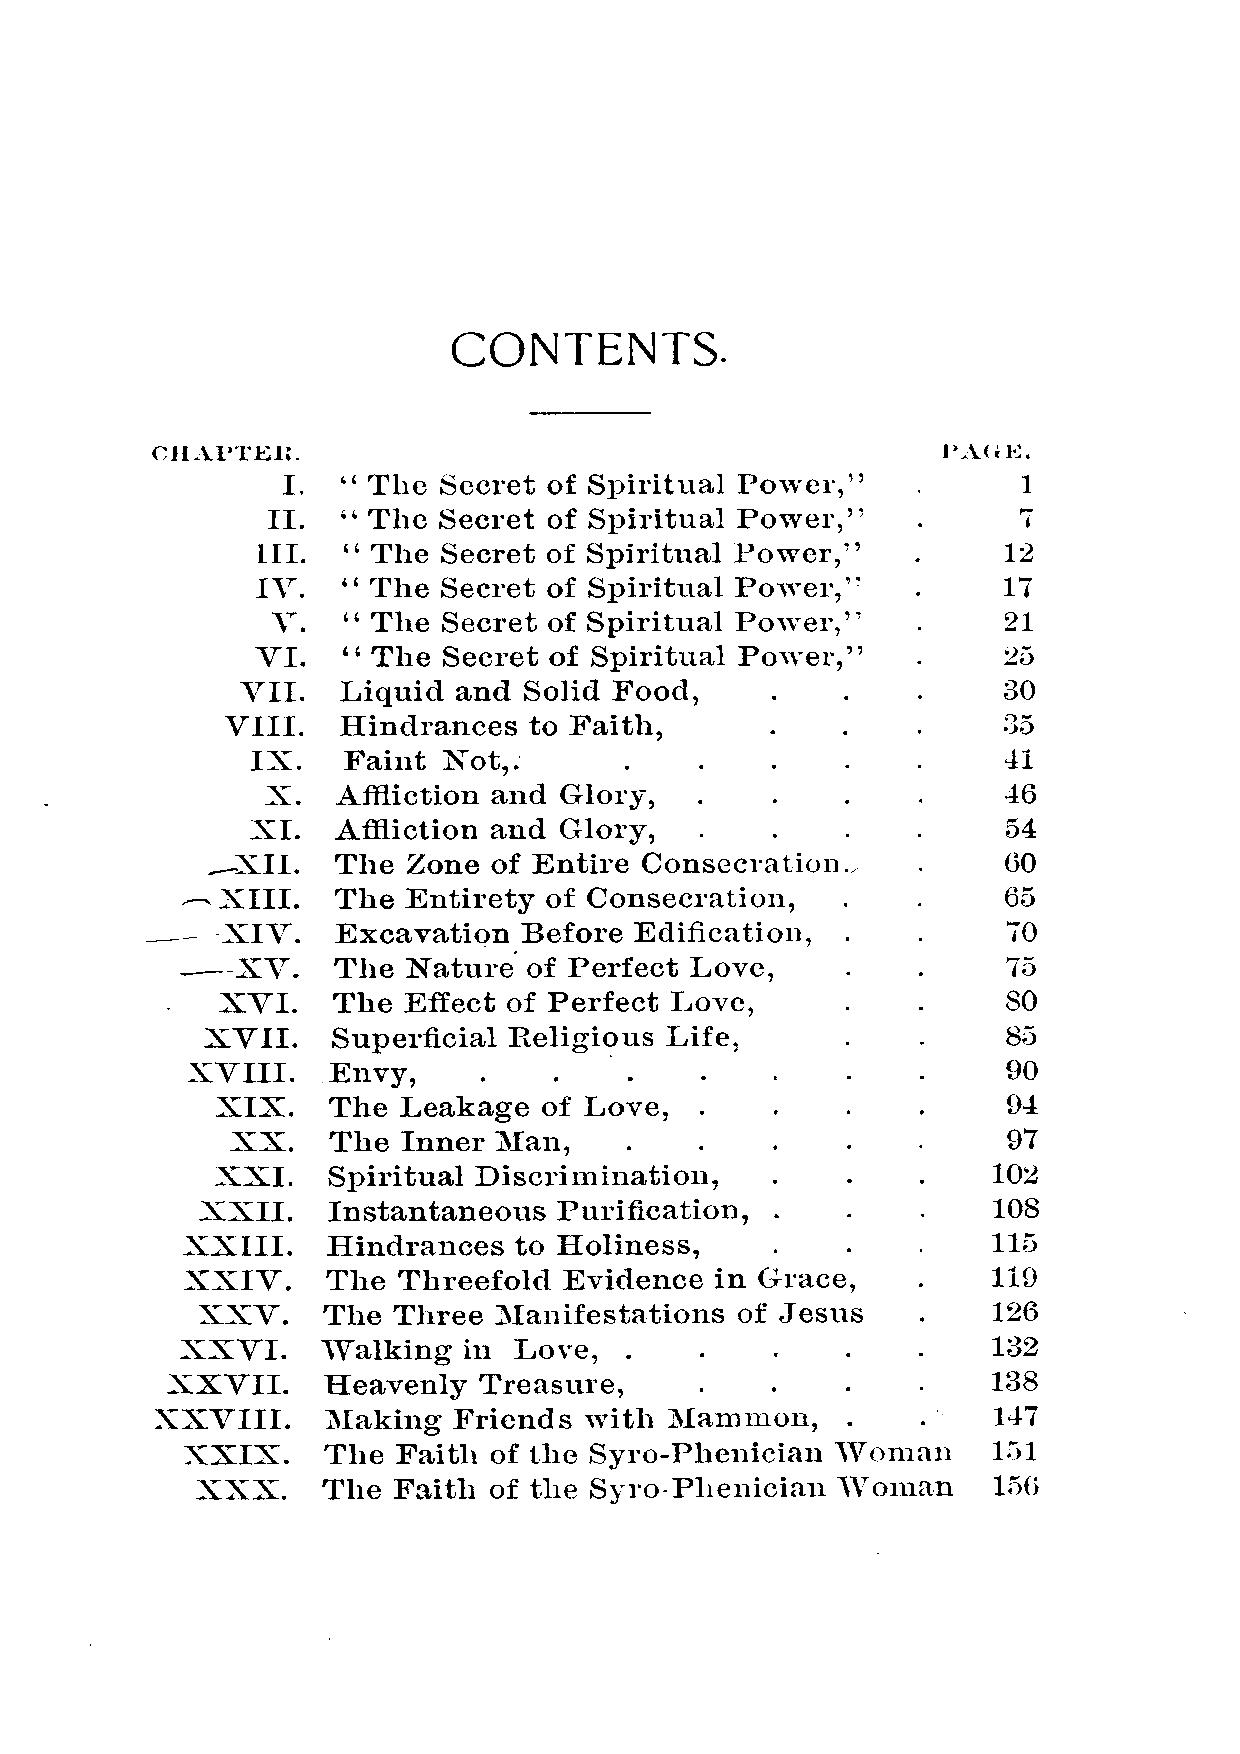TOC_chapter: (191, 1474, 960, 1500), (191, 1299, 870, 1329), (178, 1440, 955, 1465), (248, 641, 864, 672), (178, 1266, 858, 1292), (250, 539, 862, 569), (152, 1405, 821, 1432), (255, 573, 862, 601), (263, 607, 862, 635), (217, 921, 816, 949), (199, 1023, 743, 1053), (276, 470, 866, 498), (217, 884, 798, 913), (263, 505, 867, 531), (236, 953, 777, 982), (229, 849, 840, 875), (183, 1231, 707, 1260), (235, 676, 702, 709), (197, 1198, 752, 1225), (212, 989, 760, 1016), (211, 1162, 721, 1190), (212, 1094, 670, 1125), (165, 1370, 627, 1398), (247, 815, 655, 845), (221, 711, 667, 739), (172, 1334, 603, 1362), (260, 782, 658, 811), (225, 1127, 572, 1155), (244, 745, 521, 776), (185, 1057, 416, 1088)
TOC_pagenumber: (988, 1227, 1045, 1253), (986, 1263, 1044, 1290), (990, 1194, 1045, 1221), (990, 1158, 1041, 1186), (988, 1401, 1040, 1428), (990, 1296, 1041, 1323), (990, 1333, 1041, 1359), (989, 1368, 1041, 1393), (989, 1436, 1039, 1461), (990, 1471, 1039, 1496), (1002, 709, 1040, 738), (1002, 918, 1040, 947), (1002, 1055, 1041, 1083), (1002, 1088, 1041, 1117), (998, 537, 1037, 564), (998, 676, 1039, 702), (1000, 607, 1037, 633), (998, 745, 1036, 772), (1001, 640, 1036, 668), (1002, 847, 1037, 875), (1002, 778, 1037, 805), (1001, 815, 1039, 839), (1006, 986, 1039, 1015), (1004, 1023, 1041, 1047), (1002, 953, 1037, 978), (1002, 1126, 1039, 1149), (1000, 572, 1033, 596), (1002, 884, 1036, 907), (1015, 468, 1039, 495), (1019, 505, 1037, 530)
chapter: (450, 327, 727, 366)
